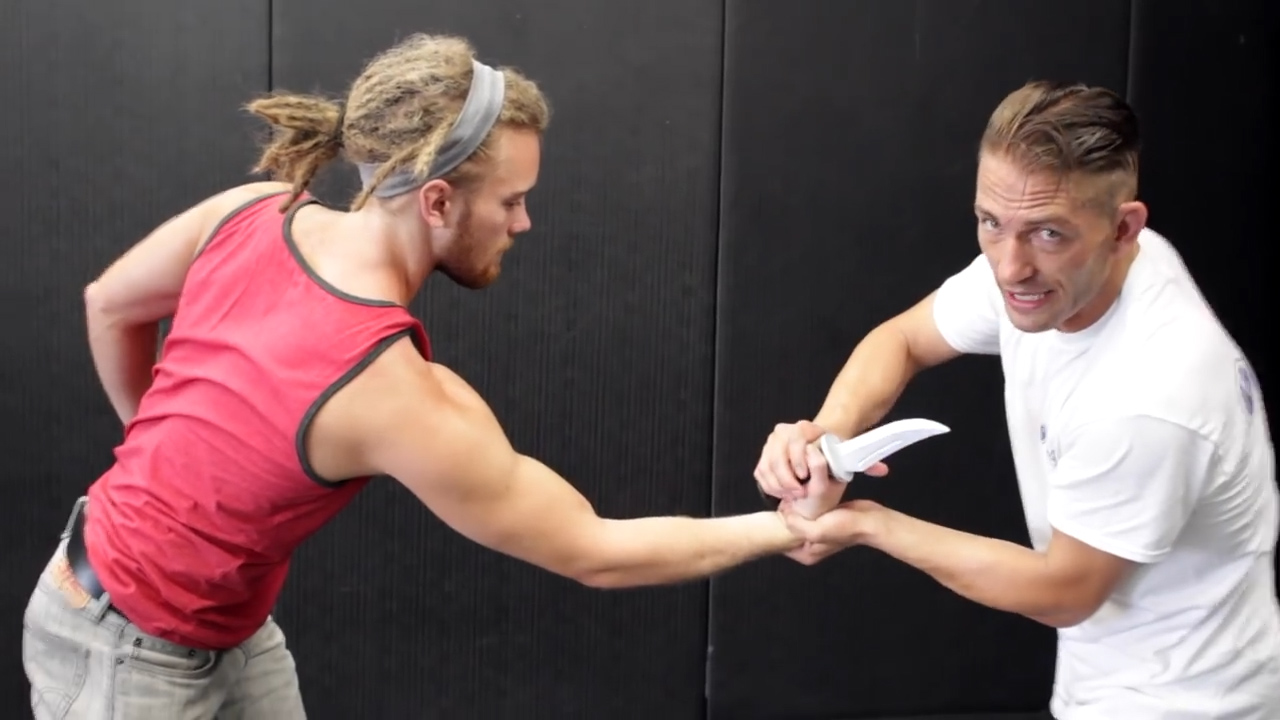knife: (756, 403, 960, 516)
